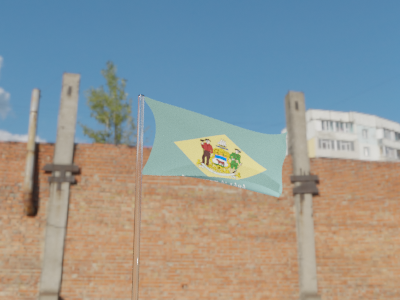Delaware flag: (143, 96, 289, 199)
